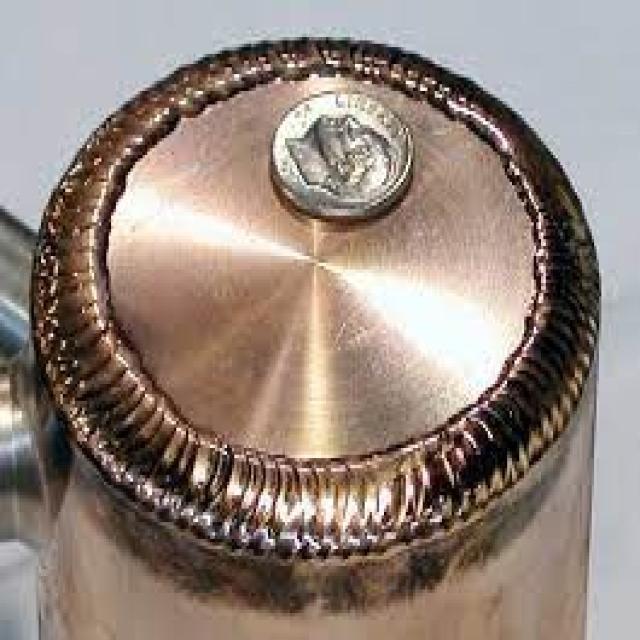Dry Waste: (27, 30, 606, 556)
